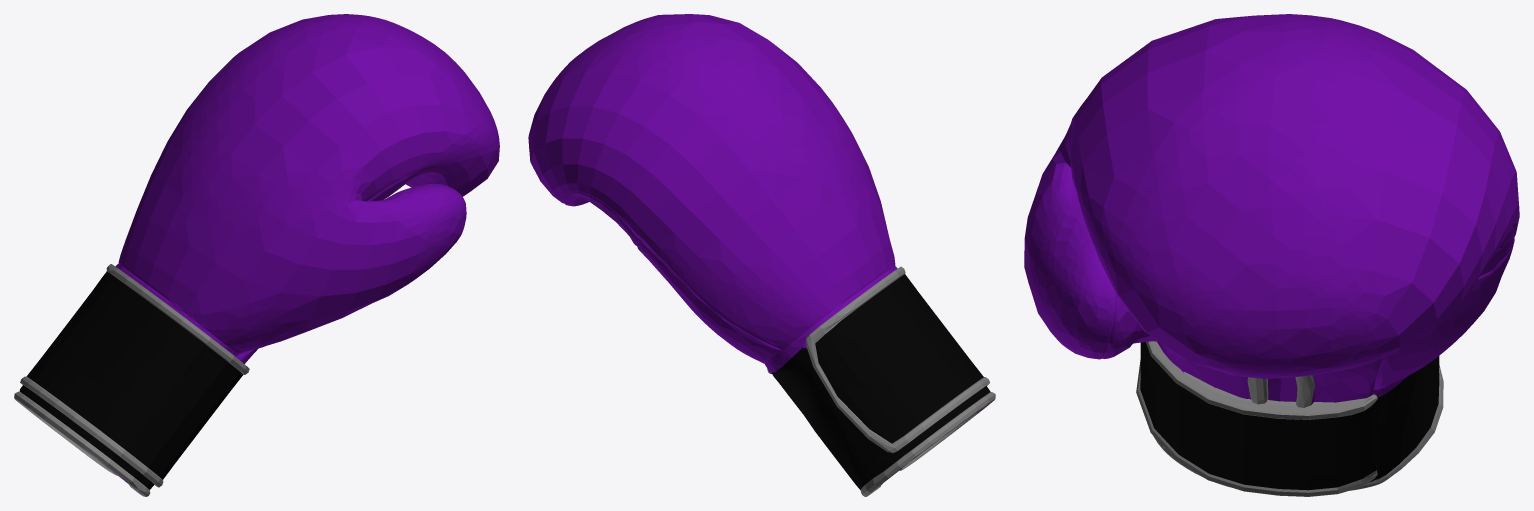
The model's file is Purple_Left.fbx.
The picture shows the model from 3 angles, left to right: view 1: azimuth 30°, elevation 25°; view 2: azimuth 150°, elevation 25°; view 3: azimuth 270°, elevation 25°; orthographic projection. The views are drawn at different scales.
Parts seen in each view (by area): view 1: 15969_Boxing_Glove_new; view 2: 15969_Boxing_Glove_new; view 3: 15969_Boxing_Glove_new.
Boxes of the visible parts, <box> form: 15969_Boxing_Glove_new: <box>14,14,499,496</box>; 15969_Boxing_Glove_new: <box>528,14,995,496</box>; 15969_Boxing_Glove_new: <box>1024,14,1519,496</box>.
Size of the model in its own units: 2146 by 1903 by 1369.
